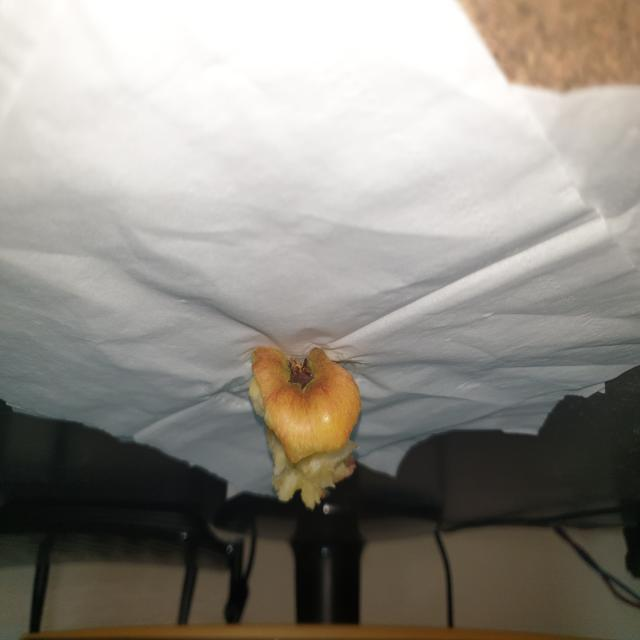apple: (245, 323, 368, 516)
